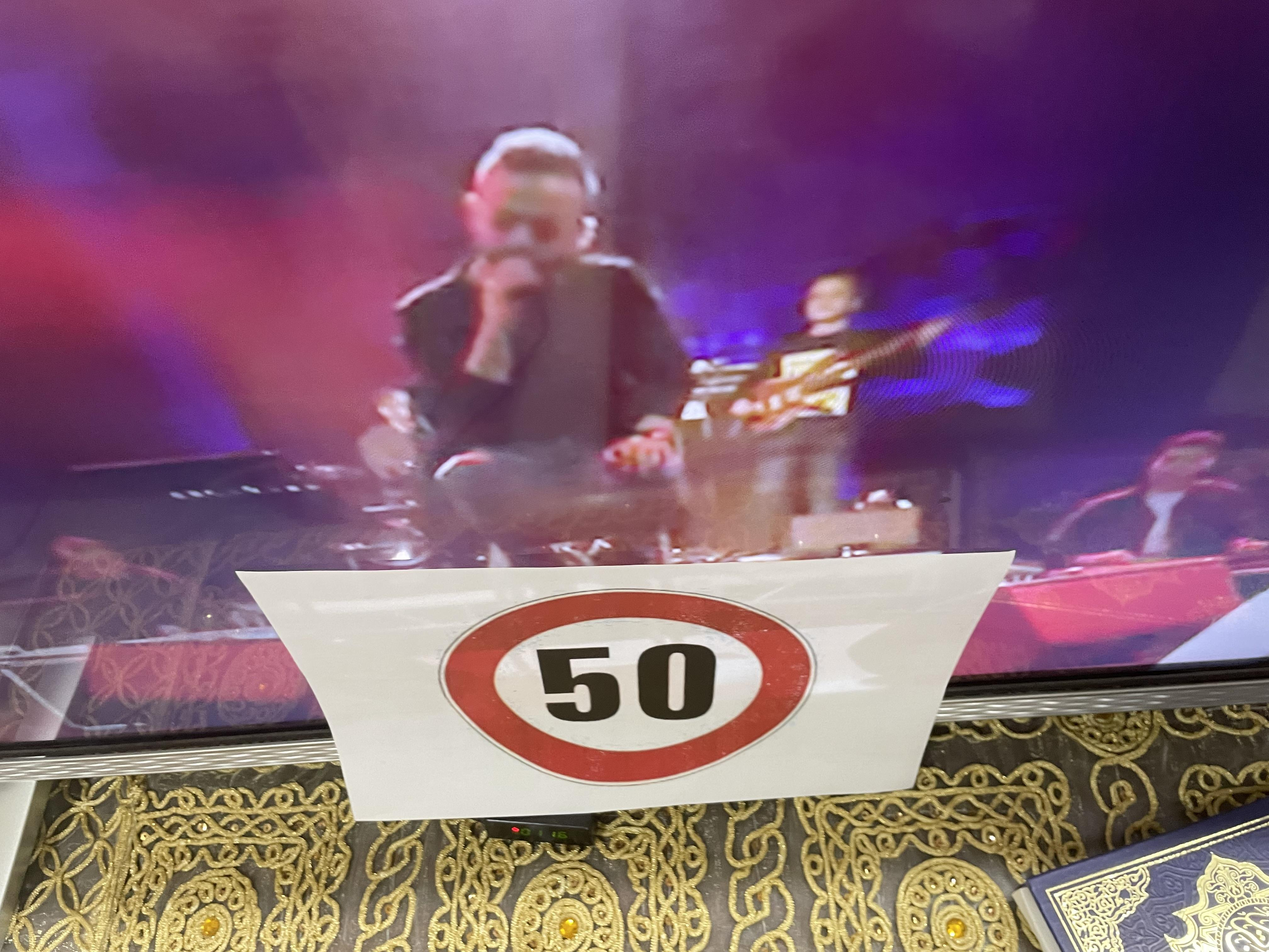50-Speed: (435, 576, 820, 793)
